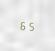five: (27, 20, 34, 31)
six: (19, 19, 26, 30)
